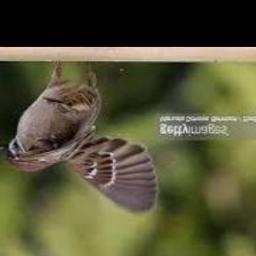Sparrow: (0, 61, 157, 217)
